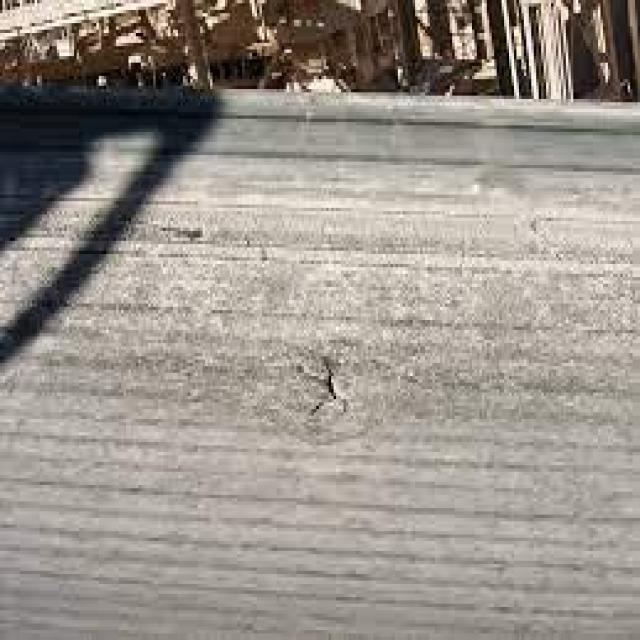Tear: (297, 344, 357, 424)
